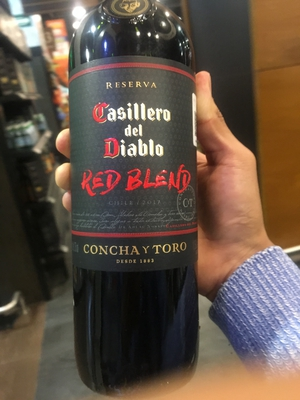casillero del diablo red blend: (66, 18, 211, 383)
